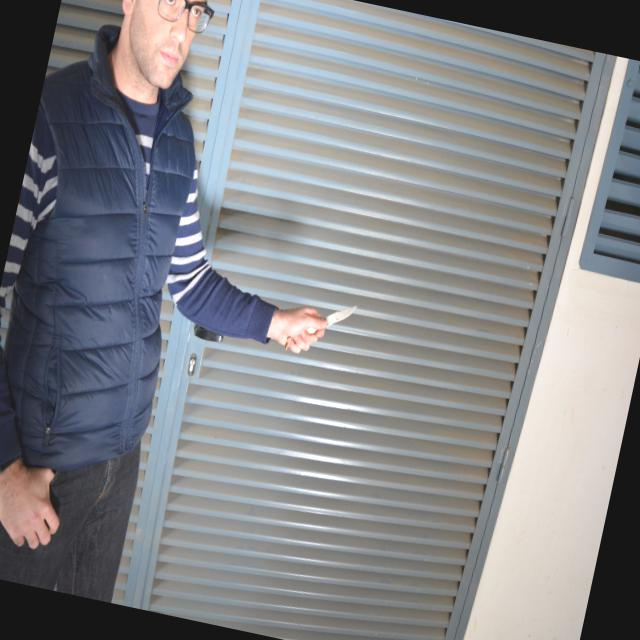knife: (280, 286, 360, 364)
